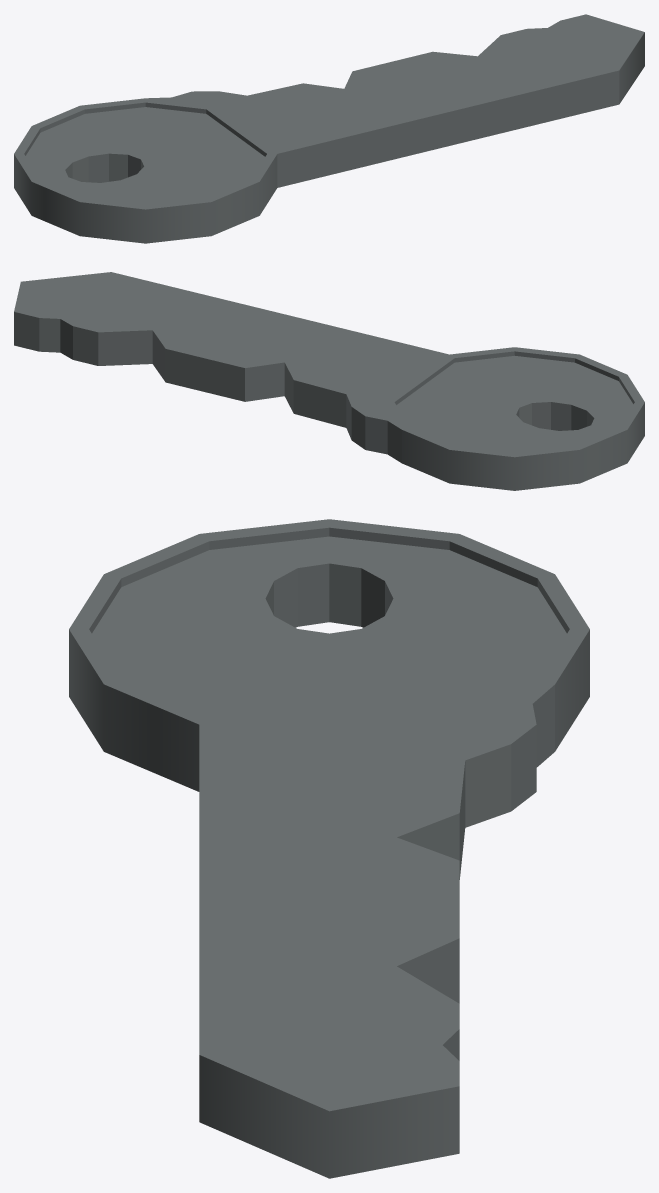
Rendered from key1.fbx.
3 renders of one model, top to bottom at view 1: azimuth 30°, elevation 25°; view 2: azimuth 150°, elevation 25°; view 3: azimuth 270°, elevation 25°, orthographic. The views are drawn at different scales.
Visible parts, largest first — view 1: key1; view 2: key1; view 3: key1.
Part boxes in pixels (bbox=[...]): key1: bbox=[14, 14, 644, 243]; key1: bbox=[14, 272, 644, 490]; key1: bbox=[69, 519, 589, 1178].
Bounding box in the file's own units: 0.0941 × 0.035 × 0.005.
